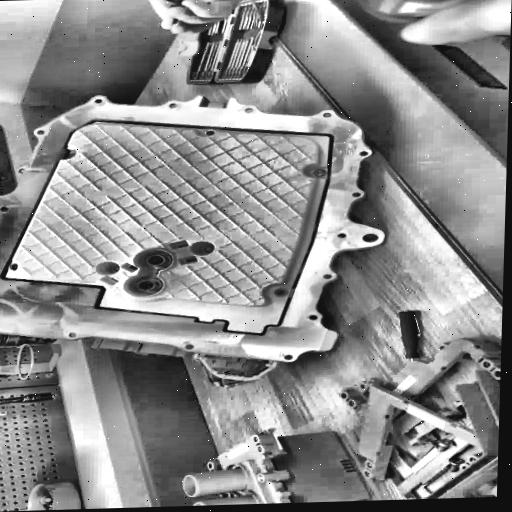bms_unit: (0, 80, 396, 371)
connector: (175, 419, 377, 506)
